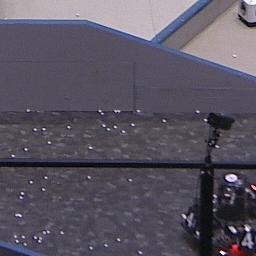Dead: (235, 234, 256, 249), (184, 208, 197, 231)
Robot: (182, 171, 256, 256)
